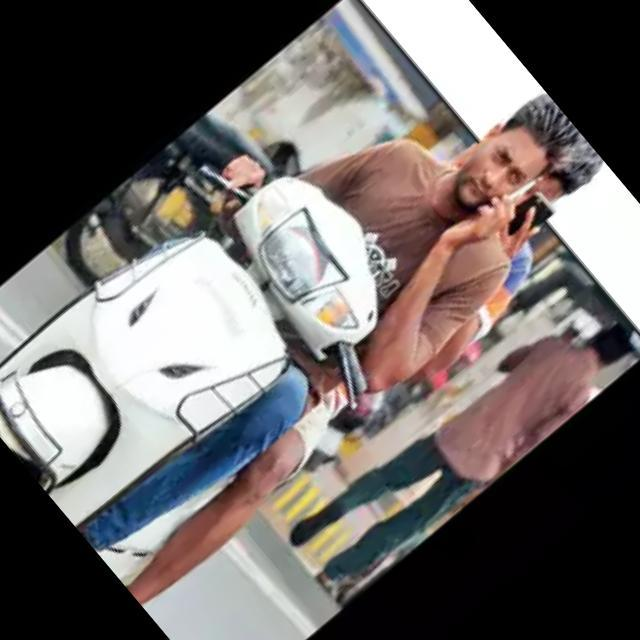USING_MOBILE: (328, 172, 576, 398)
